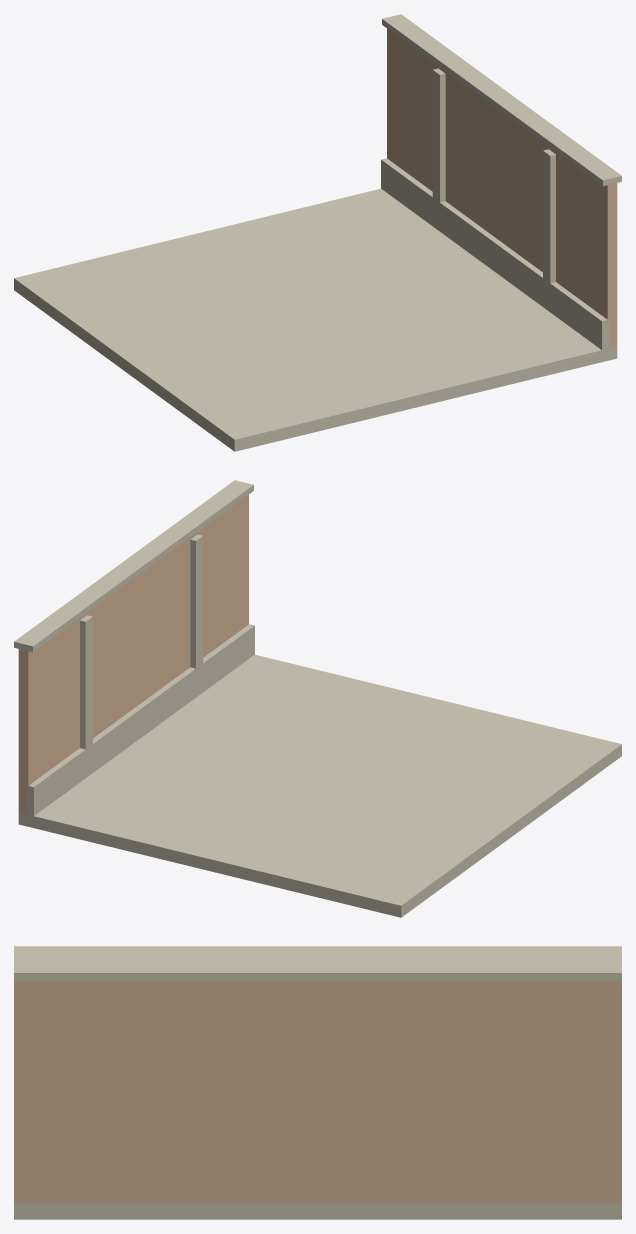
File: district-2-1-1.glb
3 views of the same model, one above another, from view 1: azimuth 30°, elevation 25°; view 2: azimuth 150°, elevation 25°; view 3: azimuth 270°, elevation 25° (orthographic). The views are drawn at different scales.
Parts seen in each view (by area): view 1: stone.014, plaster.012; view 2: stone.014, plaster.012; view 3: plaster.012, stone.014.
Boxes of the visible parts, x1,y1,x2,y2 form: stone.014: [14, 14, 621, 451]; plaster.012: [387, 28, 617, 347]; stone.014: [14, 480, 621, 917]; plaster.012: [18, 494, 248, 813]; plaster.012: [14, 981, 621, 1203]; stone.014: [14, 946, 621, 1219].
Size of the model in its own units: 8.1 by 3.63 by 8.
